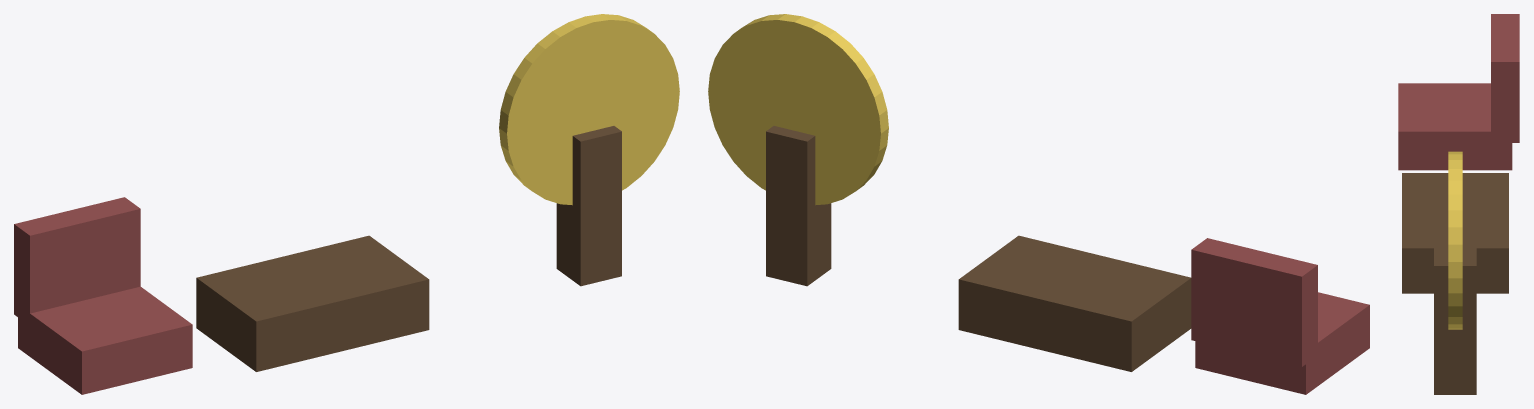
Rendered from lobby_lounge_wheel.fbx.
3 renders of one model, left to right at view 1: azimuth 30°, elevation 25°; view 2: azimuth 150°, elevation 25°; view 3: azimuth 270°, elevation 25°, orthographic. The views are drawn at different scales.
Parts seen in each view (by area): view 1: RoomServiceWheel, CoffeeTable, Armchair_Seat, Armchair_Back, WheelStand; view 2: RoomServiceWheel, CoffeeTable, Armchair_Back, WheelStand, Armchair_Seat; view 3: CoffeeTable, Armchair_Seat, WheelStand, Armchair_Back, RoomServiceWheel.
Part boxes in pixels (x1,y1,x2,y2): RoomServiceWheel: (499,14,679,205); CoffeeTable: (196,235,429,371); Armchair_Seat: (18,286,192,394); Armchair_Back: (14,197,140,325); WheelStand: (556,126,621,286); RoomServiceWheel: (708,14,888,205); CoffeeTable: (958,235,1191,371); Armchair_Back: (1191,238,1317,366); WheelStand: (766,126,831,286); Armchair_Seat: (1195,292,1369,394); CoffeeTable: (1402,173,1508,293); Armchair_Seat: (1398,83,1512,170); WheelStand: (1434,247,1476,394); Armchair_Back: (1491,14,1519,142); RoomServiceWheel: (1448,151,1462,329).
Bounding box in the file's own units: 18.1 × 7 × 3.4.
